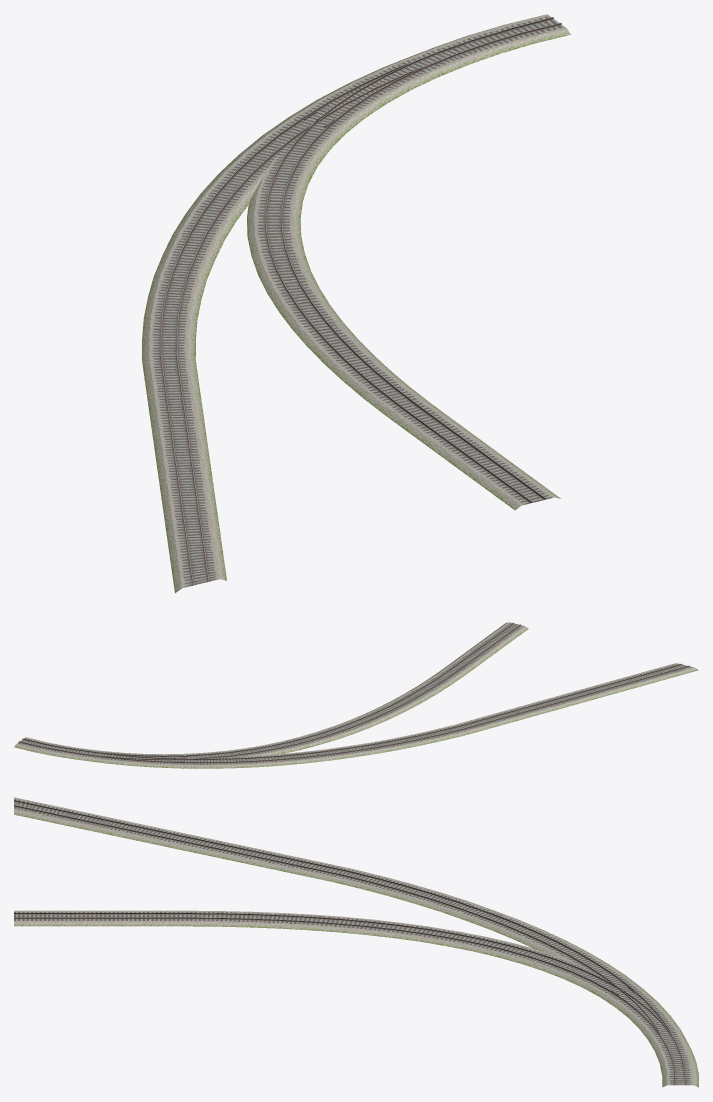
Rendered from Tr_FDbBnd3x3BFlip.fbx.
3 views of the same model, one above another, from view 1: azimuth 30°, elevation 25°; view 2: azimuth 150°, elevation 25°; view 3: azimuth 270°, elevation 25° (orthographic). The views are drawn at different scales.
Parts seen in each view (by area): view 1: U3DMesh; view 2: U3DMesh; view 3: U3DMesh.
Boxes of the visible parts, left/top/right/bottom form: U3DMesh: left=142, top=14, right=570, bottom=593; U3DMesh: left=14, top=622, right=698, bottom=768; U3DMesh: left=14, top=797, right=698, bottom=1087.
Bounding box in the file's own units: 82.47 × 0.4496 × 82.21.
